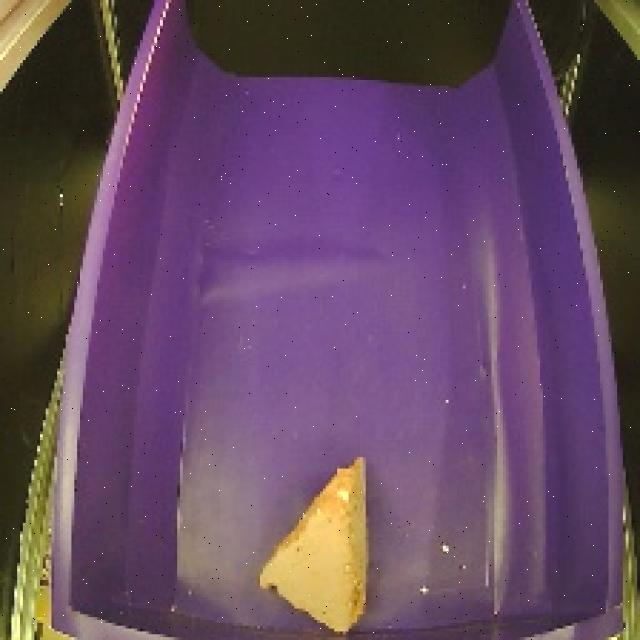brick: (252, 443, 388, 640)
